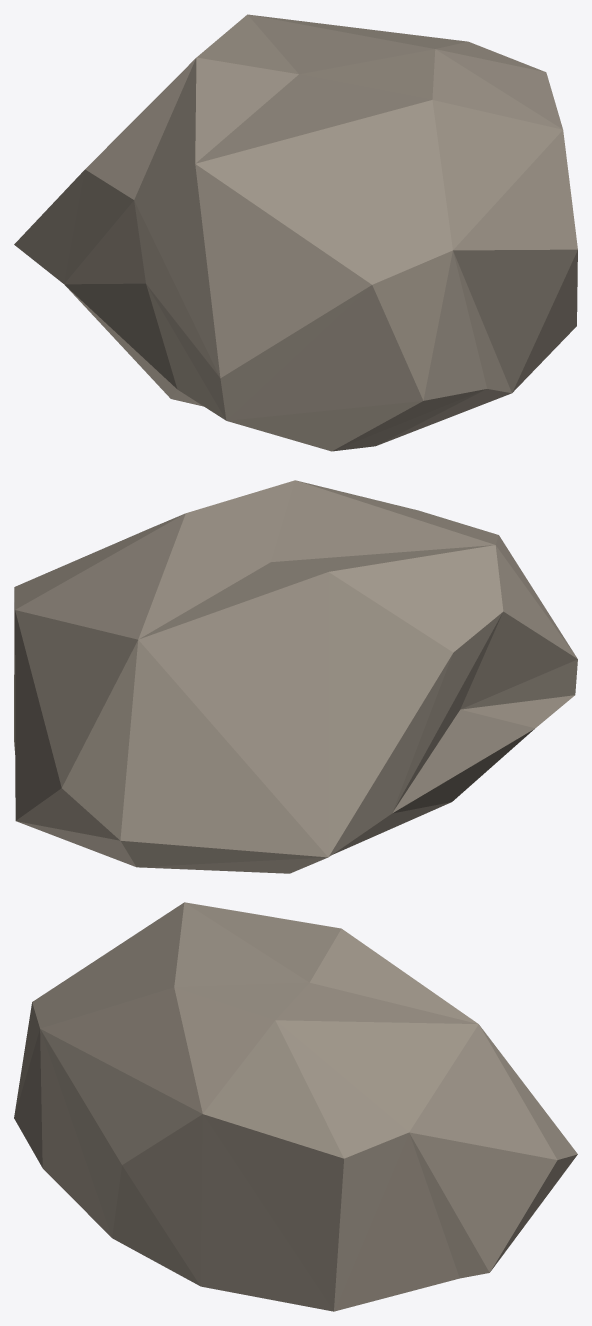
The model's file is rock_small_02.glb.
The picture shows the model from 3 angles, top to bottom: view 1: azimuth 30°, elevation 25°; view 2: azimuth 150°, elevation 25°; view 3: azimuth 270°, elevation 25°; orthographic projection. The views are drawn at different scales.
Visible parts, largest first — view 1: rock_small_02; view 2: rock_small_02; view 3: rock_small_02.
Boxes of the visible parts, x1=… form: rock_small_02: x1=14, y1=14, x2=577, y2=451; rock_small_02: x1=14, y1=480, x2=577, y2=873; rock_small_02: x1=14, y1=902, x2=577, y2=1311.
Size of the model in its own units: 1.54 by 0.8459 by 1.83.
Materials: 1 (1 with a texture image).
